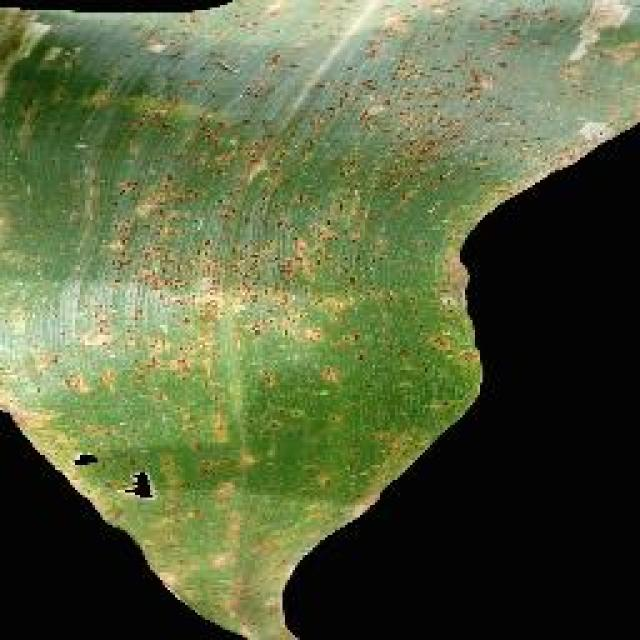Corn Common Rust: (40, 21, 503, 532)
